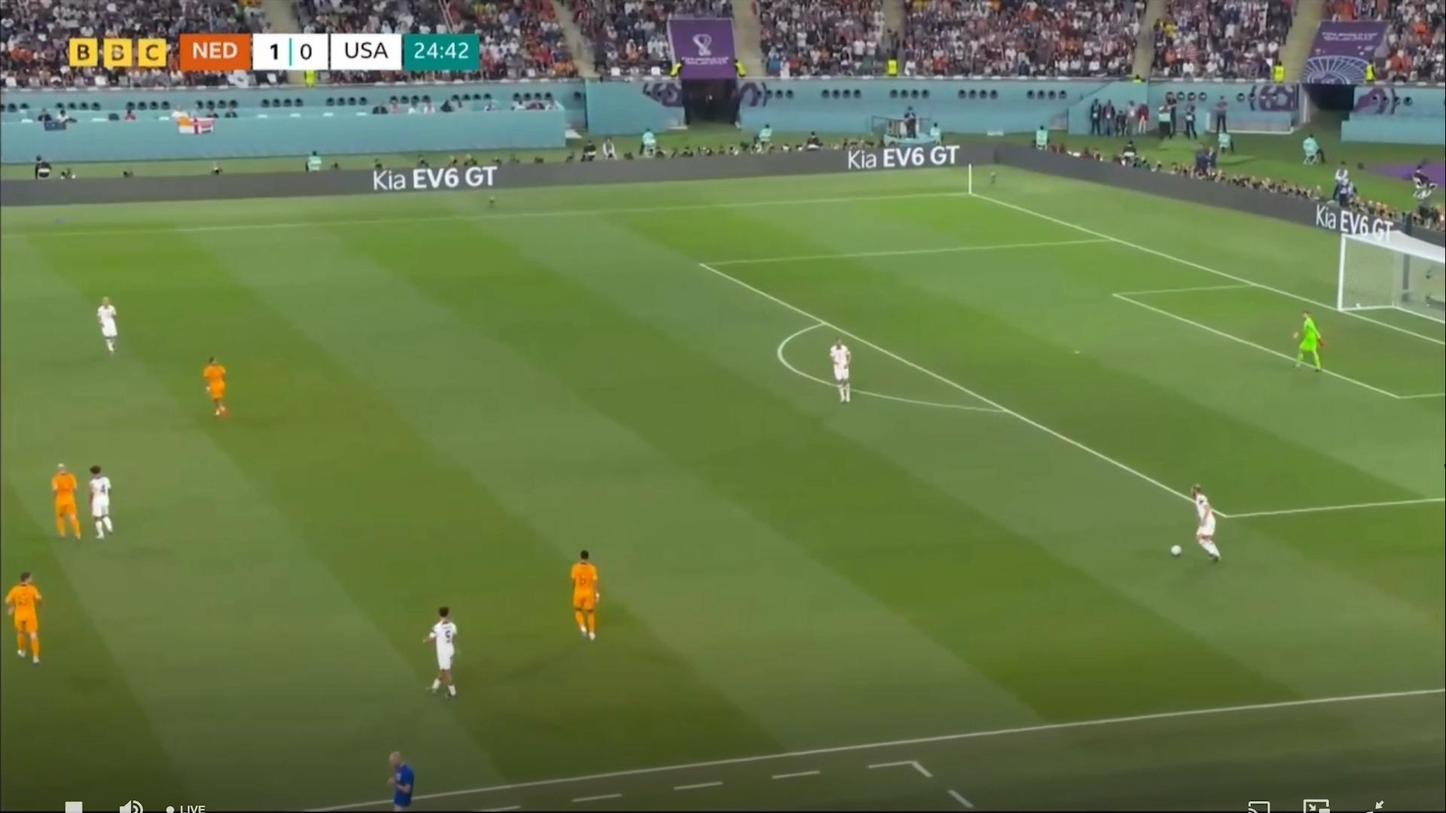Ball: (1168, 544, 1183, 557)
Player: (562, 548, 614, 650), (420, 605, 469, 704), (3, 571, 53, 668), (1180, 482, 1234, 568), (46, 463, 91, 544), (199, 354, 235, 426), (82, 466, 115, 543), (826, 339, 861, 409), (91, 294, 123, 359), (1293, 310, 1325, 373), (386, 751, 415, 812)
